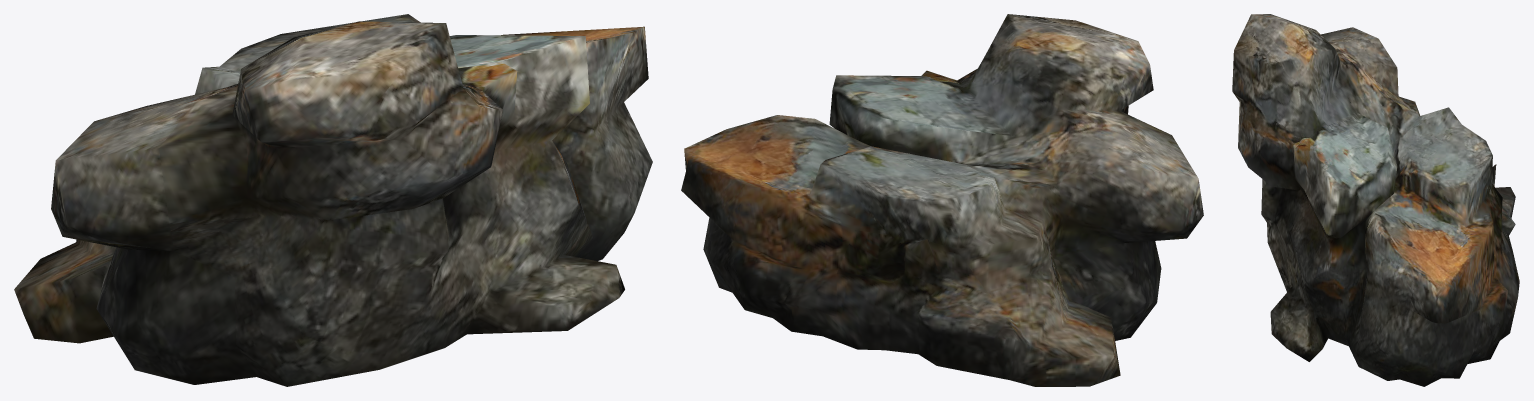
Rendered from riverbank-slate.glb.
3 views of the same model, side by side, from view 1: azimuth 30°, elevation 25°; view 2: azimuth 150°, elevation 25°; view 3: azimuth 270°, elevation 25° (orthographic). The views are drawn at different scales.
Parts seen in each view (by area): view 1: riverbank-slate; view 2: riverbank-slate; view 3: riverbank-slate.
Boxes of the visible parts, bbox=[...] form: riverbank-slate: bbox=[14, 14, 652, 386]; riverbank-slate: bbox=[681, 14, 1203, 386]; riverbank-slate: bbox=[1232, 14, 1519, 386].
Bounding box in the file's own units: 4.4 × 2.2 × 2.5.
1 material, 1 textured.
